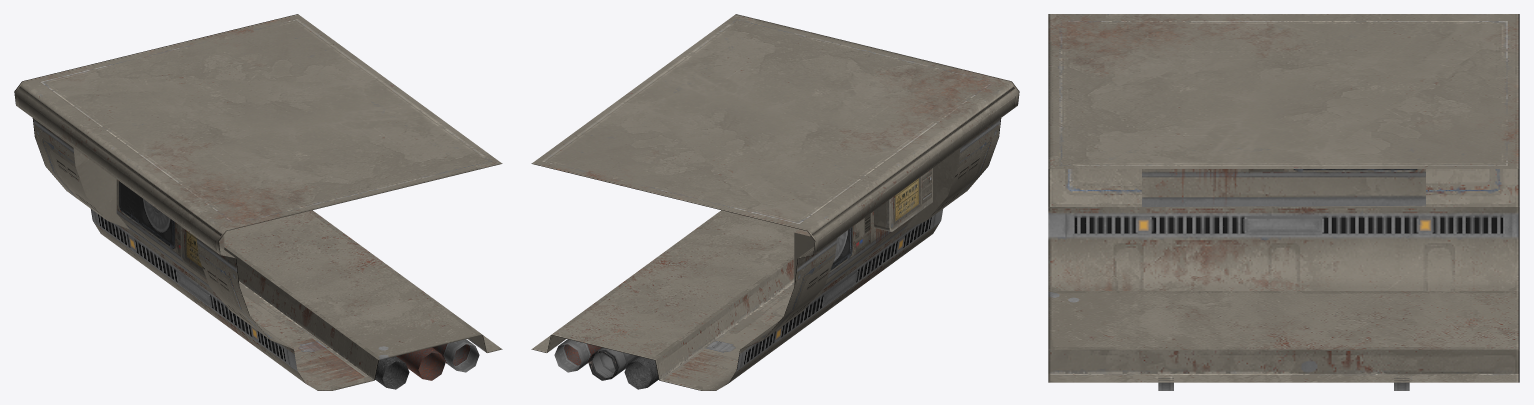
The model's file is CP_Canopy_Industrial_4m_03.fbx.
The picture shows the model from 3 angles, left to right: view 1: azimuth 30°, elevation 25°; view 2: azimuth 150°, elevation 25°; view 3: azimuth 270°, elevation 25°; orthographic projection. The views are drawn at different scales.
Parts seen in each view (by area): view 1: CP_Canopy_Industrial_4m_03_LOD0; view 2: CP_Canopy_Industrial_4m_03_LOD0; view 3: CP_Canopy_Industrial_4m_03_LOD0.
Part boxes in pixels (x1=…): CP_Canopy_Industrial_4m_03_LOD0: x1=14, y1=14, x2=502, y2=390; CP_Canopy_Industrial_4m_03_LOD0: x1=531, y1=14, x2=1019, y2=390; CP_Canopy_Industrial_4m_03_LOD0: x1=1048, y1=14, x2=1519, y2=390.
Size of what is drawn, in the model's own units: 160 by 109 by 200.
